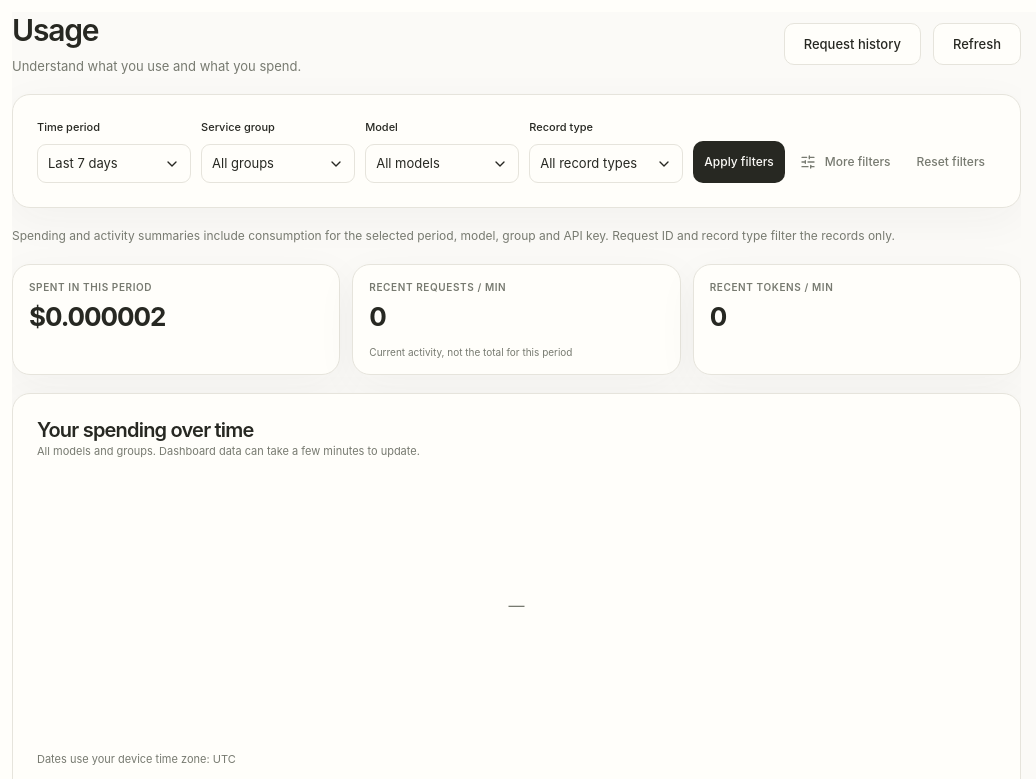
Scenario: keeps common filters visible and preserves applied secondary filters while collapsed
Expected: the dropdown named "Time period" is shown, [37,144,191,183]
Expected: the dropdown named "Service group" is shown, [201,144,355,183]
Click the button "More filters" at coordinates (845, 162), box [789,141,902,183]
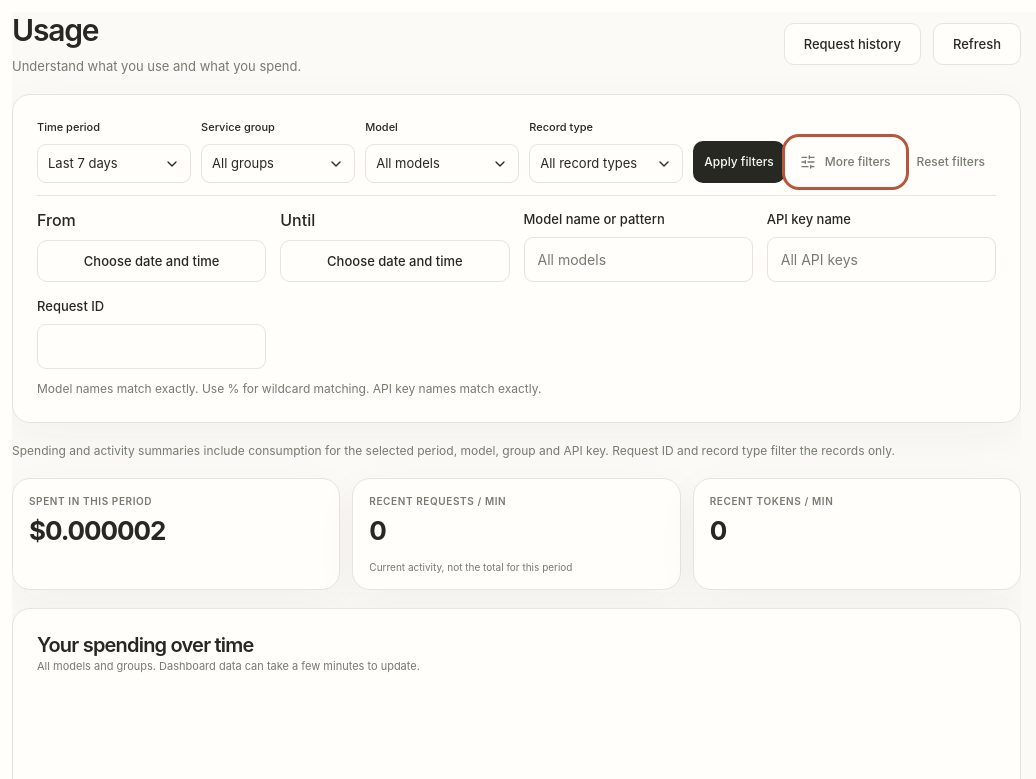
Type "req-synthetic" into the field labelled "Request ID" at coordinates (152, 346), box [37,324,266,369]
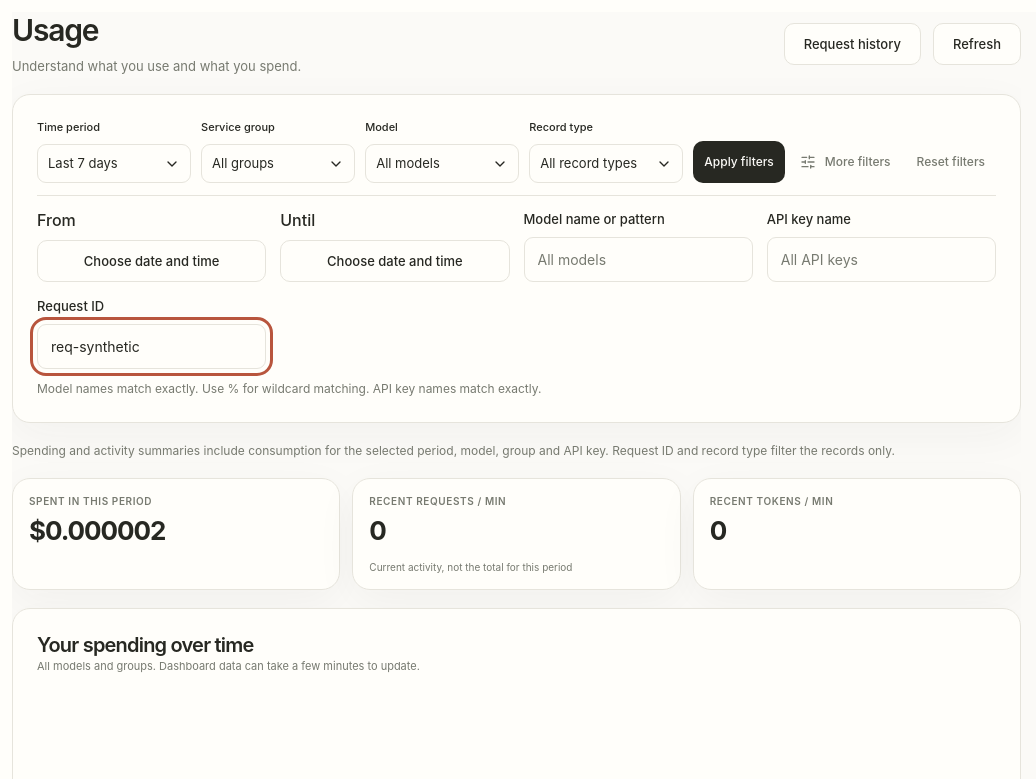
Click the button "Apply filters" at coordinates (739, 162), box [693,141,785,183]
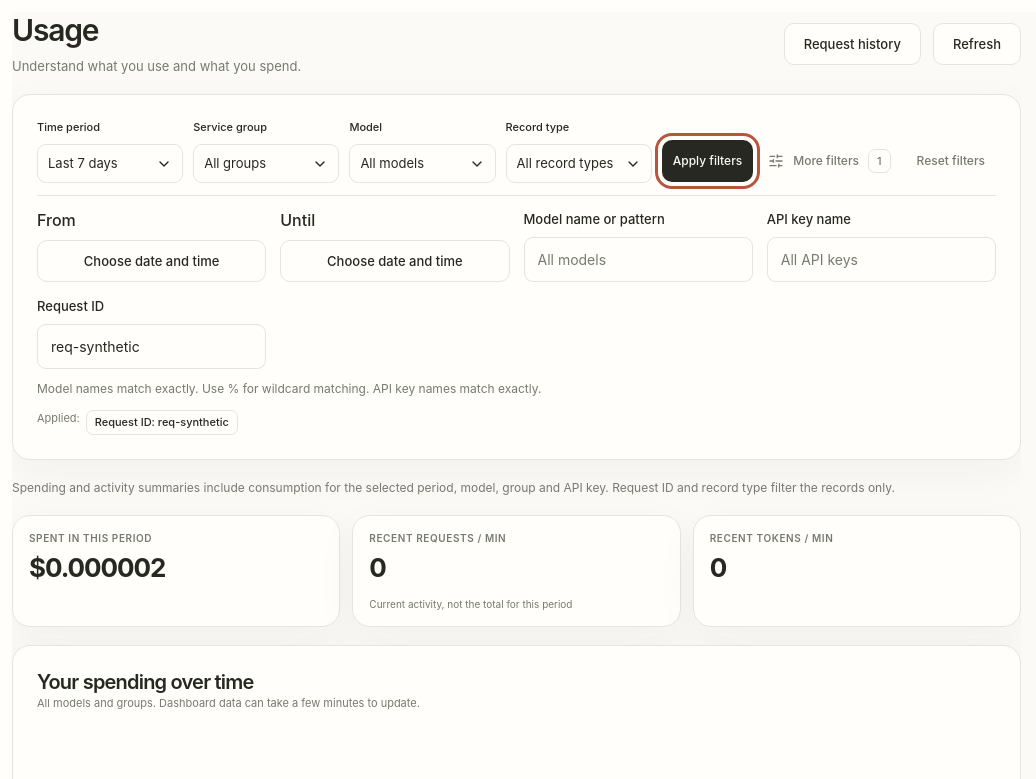
Click the button "More filters 1" at coordinates (829, 161), box [757,139,902,183]
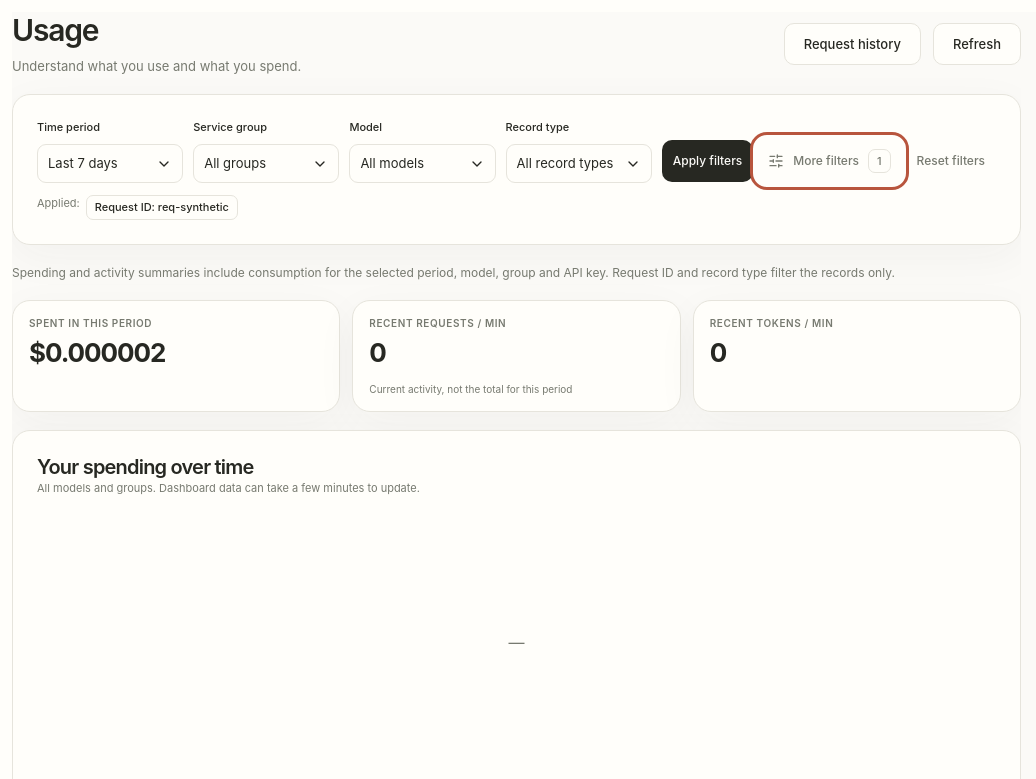
Expected: the element named "Applied filters" shows "req-synthetic", [158,200,229,214]
Click the button "More filters 1" at coordinates (829, 161), box [757,139,902,183]
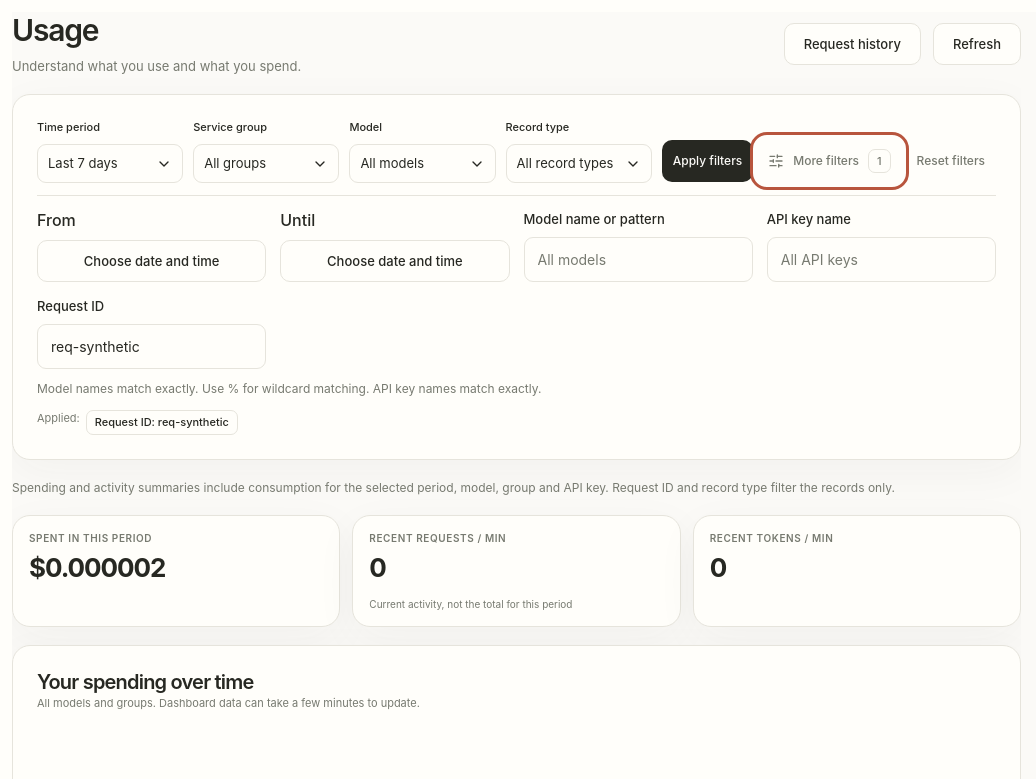
Click the button "Reset filters" at coordinates (951, 161), box [906,140,996,182]
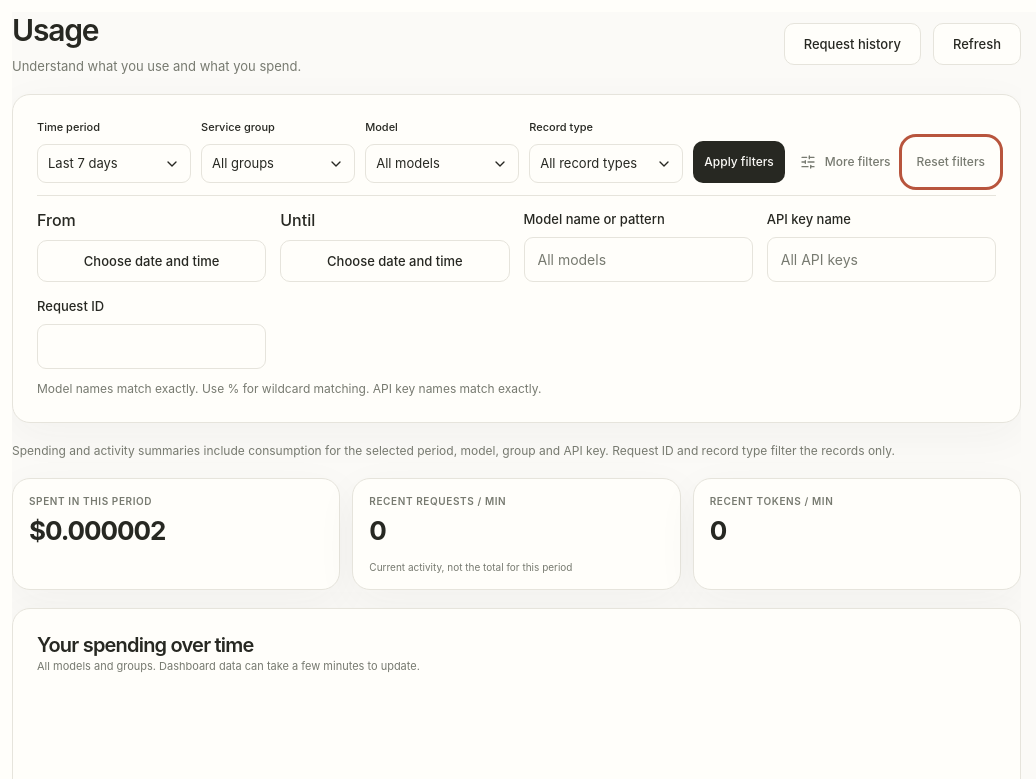
Expected: the field labelled "Request ID" is empty, [37,324,266,369]
